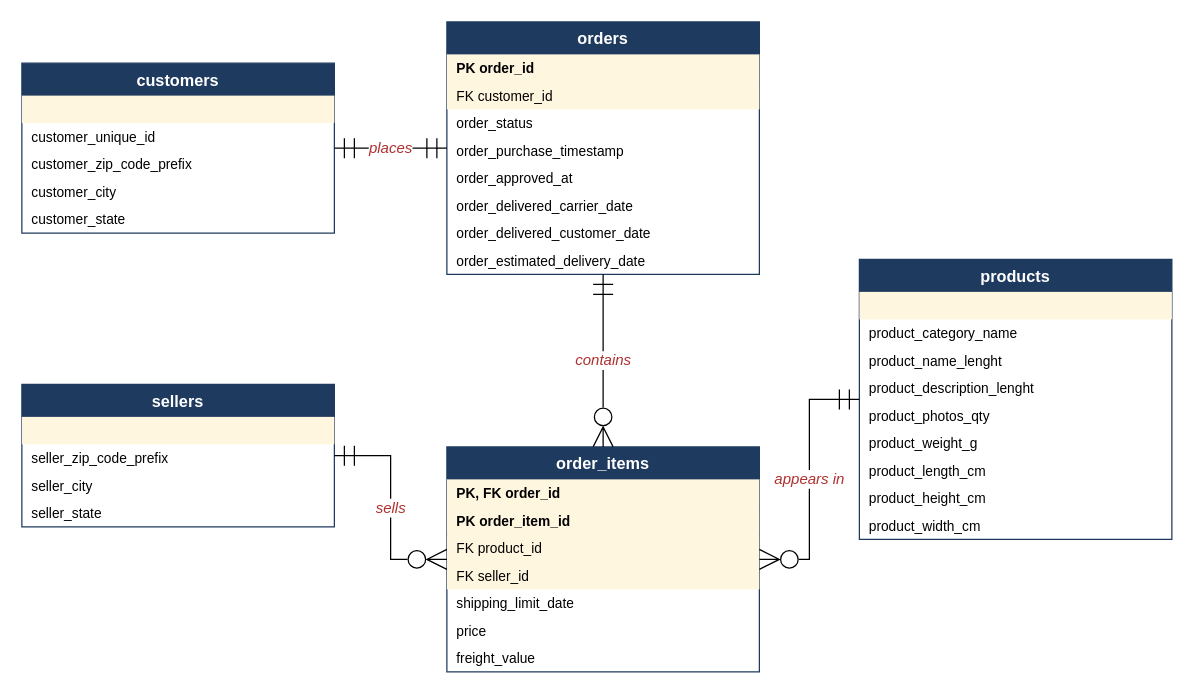
Image size: 1194x694. Some labels were removed from this diagram. Here are the shapes that lost their labels. From the top down, the centre of each, then its label:
At [177,108]: "PK customer_id".
At [1015,305]: "PK product_id".
At [177,430]: "PK seller_id".
